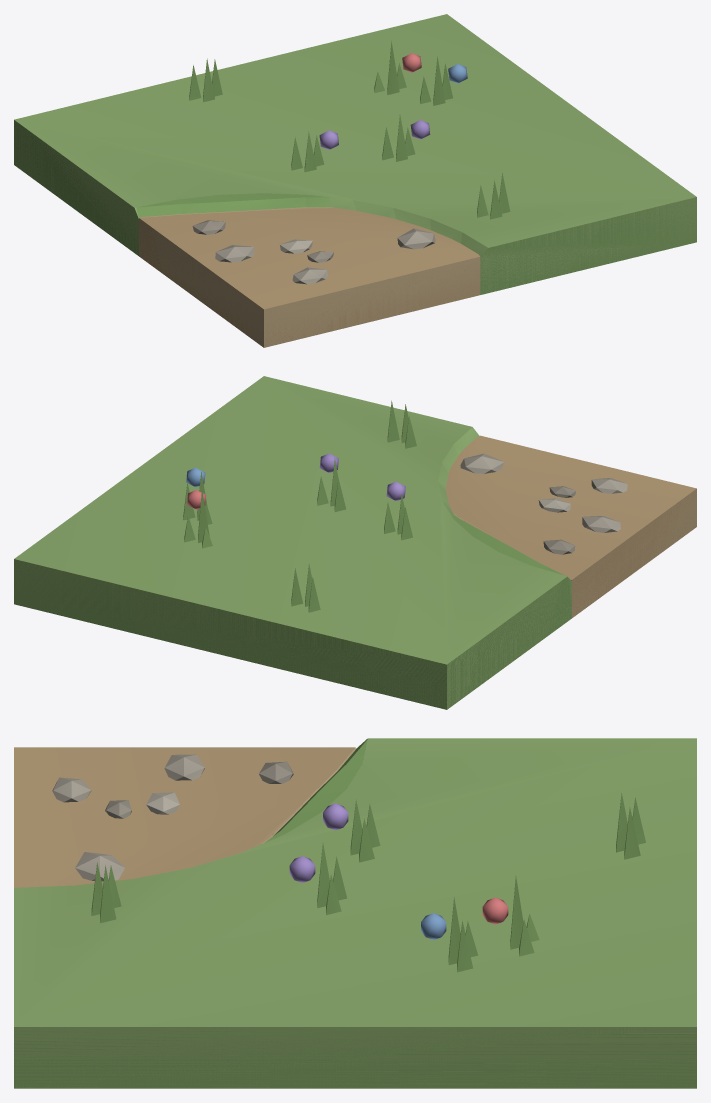
The model's file is terrain.path.outer.glb.
3 renders of one model, top to bottom at view 1: azimuth 30°, elevation 25°; view 2: azimuth 150°, elevation 25°; view 3: azimuth 270°, elevation 25°, orthographic. The views are drawn at different scales.
Visible parts, largest first — view 1: terrain.path.outer.v0.mesh, terrain.path.outer.v1.mesh, terrain.path.outer.v2.mesh; view 2: terrain.path.outer.v0.mesh, terrain.path.outer.v1.mesh, terrain.path.outer.v2.mesh; view 3: terrain.path.outer.v0.mesh, terrain.path.outer.v1.mesh, terrain.path.outer.v2.mesh.
Part boxes in pixels (box(x1,y1,x2,y2)): terrain.path.outer.v0.mesh: box(14, 14, 696, 347); terrain.path.outer.v1.mesh: box(14, 56, 696, 347); terrain.path.outer.v2.mesh: box(14, 40, 691, 346); terrain.path.outer.v0.mesh: box(14, 376, 696, 709); terrain.path.outer.v1.mesh: box(14, 435, 696, 709); terrain.path.outer.v2.mesh: box(16, 400, 696, 709); terrain.path.outer.v0.mesh: box(14, 738, 696, 1088); terrain.path.outer.v1.mesh: box(14, 739, 696, 1088); terrain.path.outer.v2.mesh: box(14, 748, 696, 1088).
Size of the model in its own units: 1 by 0.2149 by 1.
